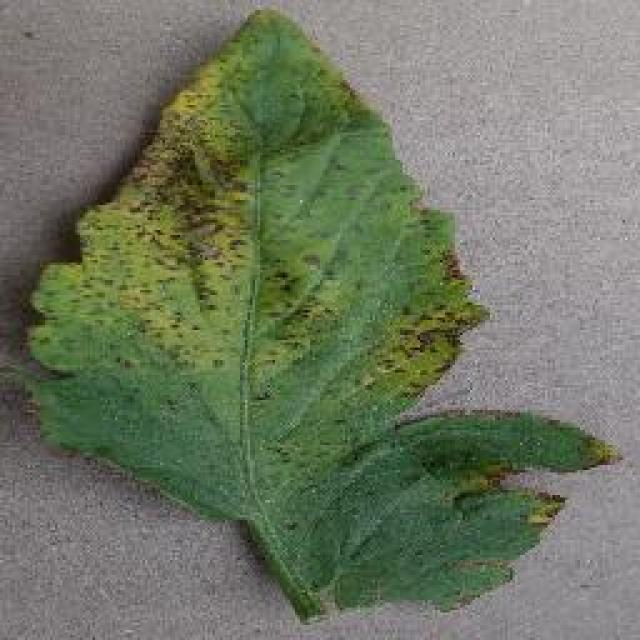Tomato bacterial spot leaf: (12, 4, 636, 628)
